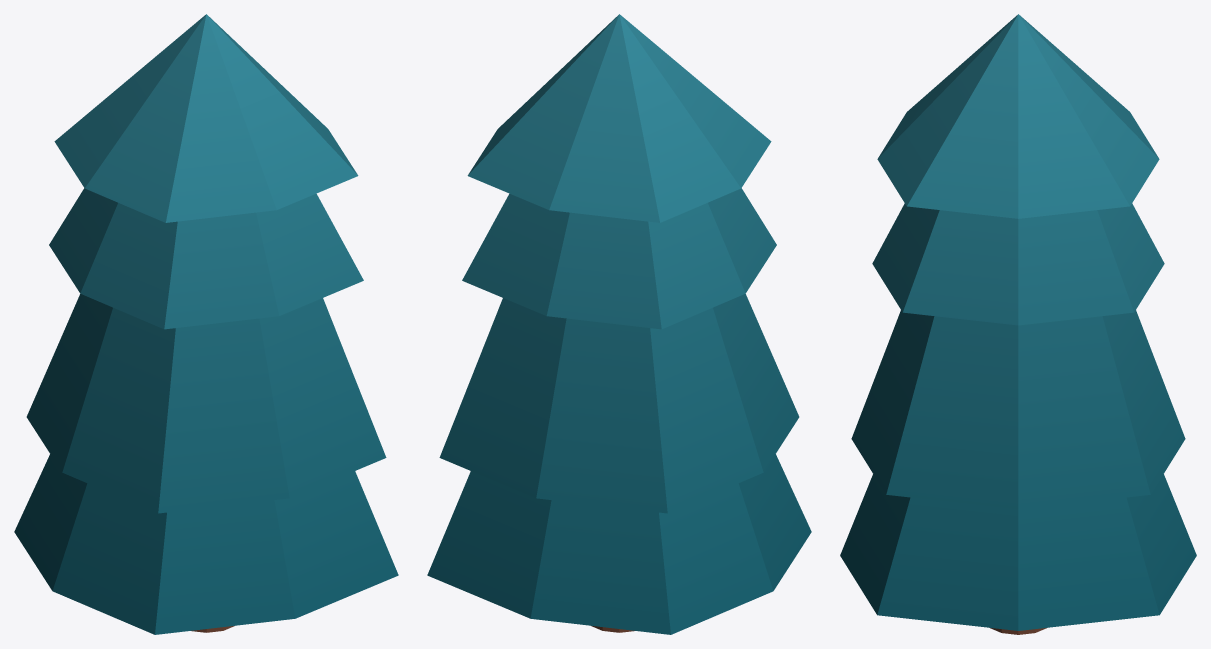
The model's file is Tree_22_gradient_blue_vc.fbx.
3 views of the same model, side by side, from view 1: azimuth 30°, elevation 25°; view 2: azimuth 150°, elevation 25°; view 3: azimuth 270°, elevation 25° (orthographic).
Parts seen in each view (by area): view 1: Tree_22_gradient_blue_vc; view 2: Tree_22_gradient_blue_vc; view 3: Tree_22_gradient_blue_vc.
Part boxes in pixels (x1,y1,x2,y2): Tree_22_gradient_blue_vc: (14,14,398,634); Tree_22_gradient_blue_vc: (427,14,811,634); Tree_22_gradient_blue_vc: (840,14,1196,634).
Bounding box in the file's own units: 82.75 × 155 × 82.75.
